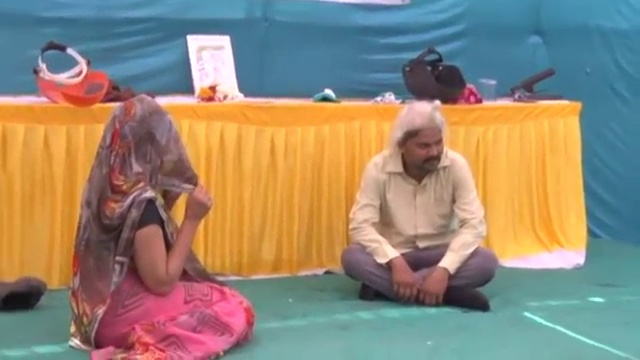helmet_off: (88, 96, 201, 191), (393, 106, 448, 171)
person: (63, 92, 258, 360), (334, 100, 497, 313)
